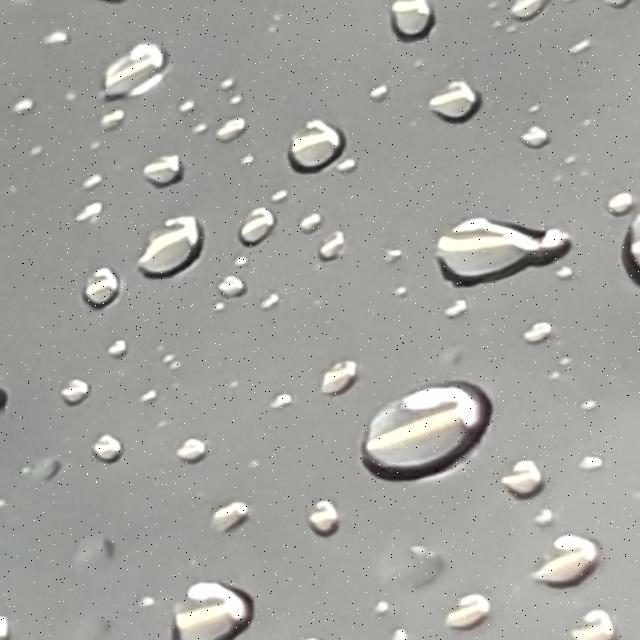raindrop: (349, 382, 504, 484), (413, 216, 600, 288), (88, 36, 190, 102), (516, 524, 602, 593), (274, 112, 358, 177), (174, 588, 270, 640), (356, 542, 448, 592), (372, 0, 472, 40), (65, 526, 146, 575), (428, 582, 502, 635), (508, 310, 600, 352), (138, 216, 208, 270), (508, 114, 582, 164), (581, 170, 640, 226), (436, 77, 506, 124), (610, 206, 640, 312), (500, 452, 552, 513), (184, 491, 259, 532), (89, 406, 139, 462), (294, 494, 356, 538), (329, 346, 383, 395), (72, 270, 132, 314), (203, 106, 260, 152), (561, 599, 622, 640), (137, 150, 195, 192), (50, 160, 121, 193), (234, 205, 278, 252), (202, 267, 268, 298), (555, 381, 623, 410), (218, 78, 277, 110), (565, 441, 615, 478), (308, 222, 352, 264), (67, 193, 115, 230), (266, 174, 332, 200), (18, 22, 78, 48), (0, 87, 41, 123), (234, 284, 290, 310), (283, 206, 323, 240), (165, 85, 208, 116), (91, 104, 138, 132), (103, 330, 143, 362), (170, 433, 208, 466), (55, 377, 91, 407), (28, 457, 61, 489), (504, 0, 552, 20), (359, 76, 399, 100), (266, 381, 306, 402), (207, 71, 242, 92)
